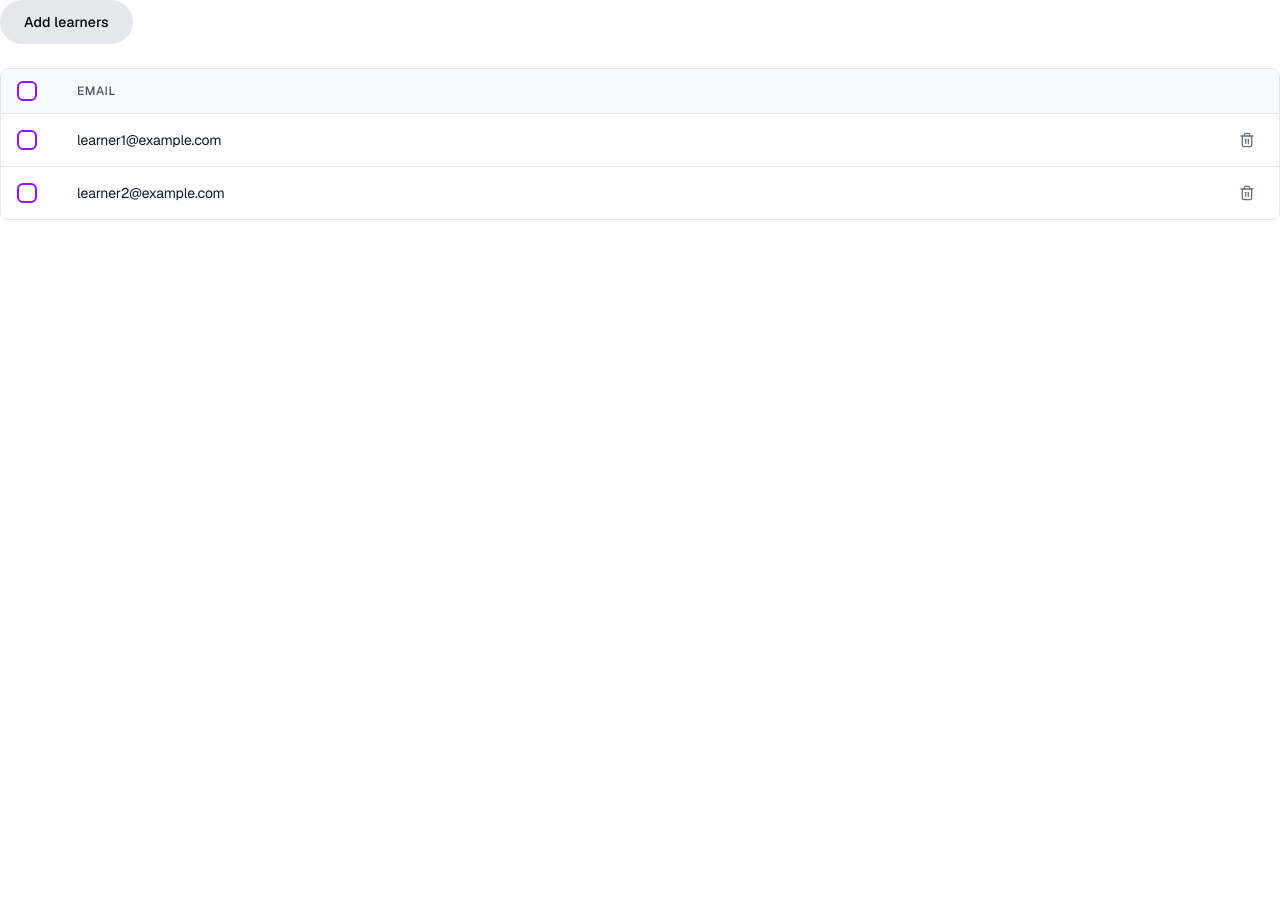
Scenario: CohortMemberManagement Component › Email Input Management › removes email input when trash button is clicked
This screenshot has width=1280, height=900.
What coordinates should you click on to do the following:
click the button "Add learners"
I would click on:
 (66, 22)
Its box is [0,0,133,44].
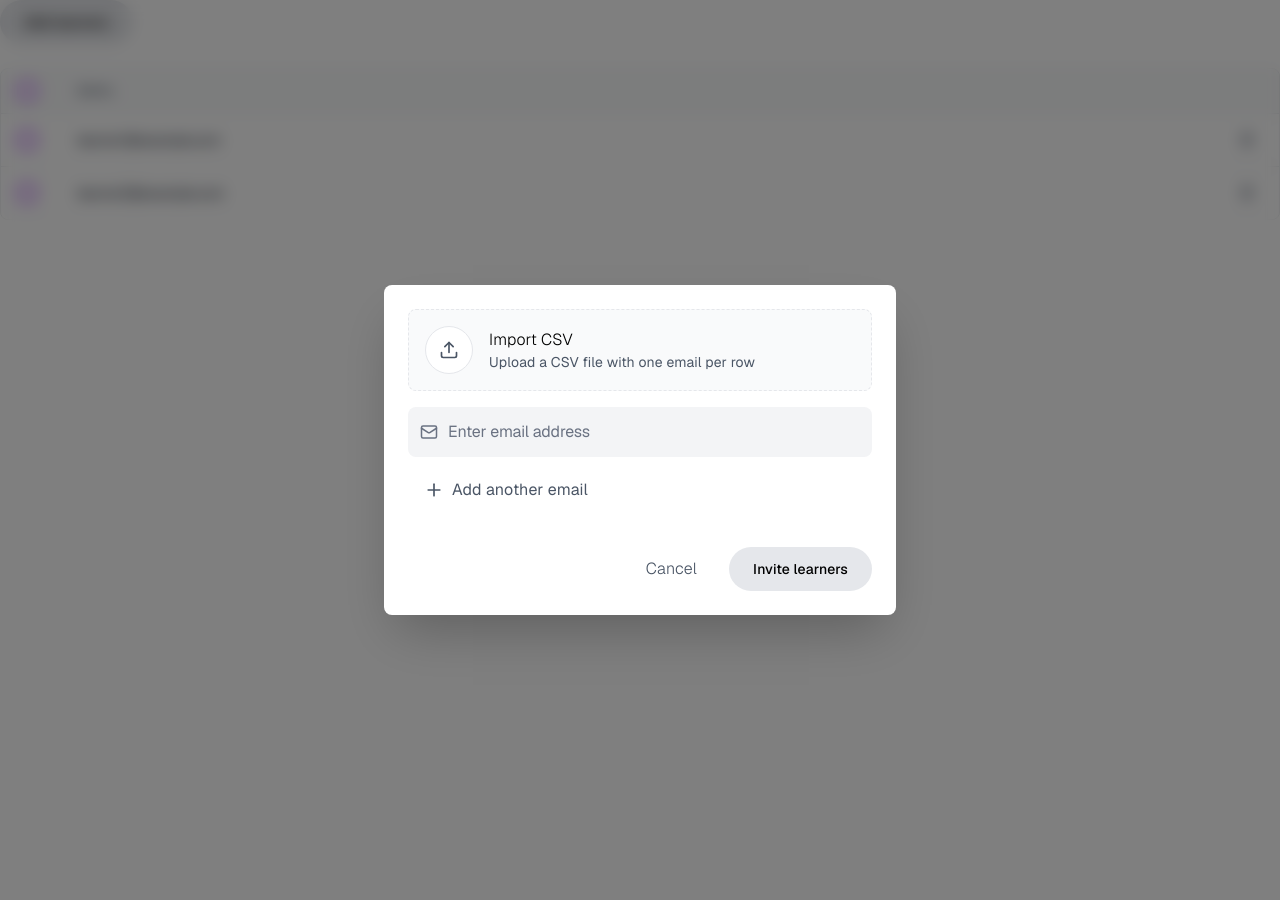
What coordinates should you click on to do the following:
click the button "Add another email"
I would click on:
 (520, 490)
Its box is [408,465,872,515].
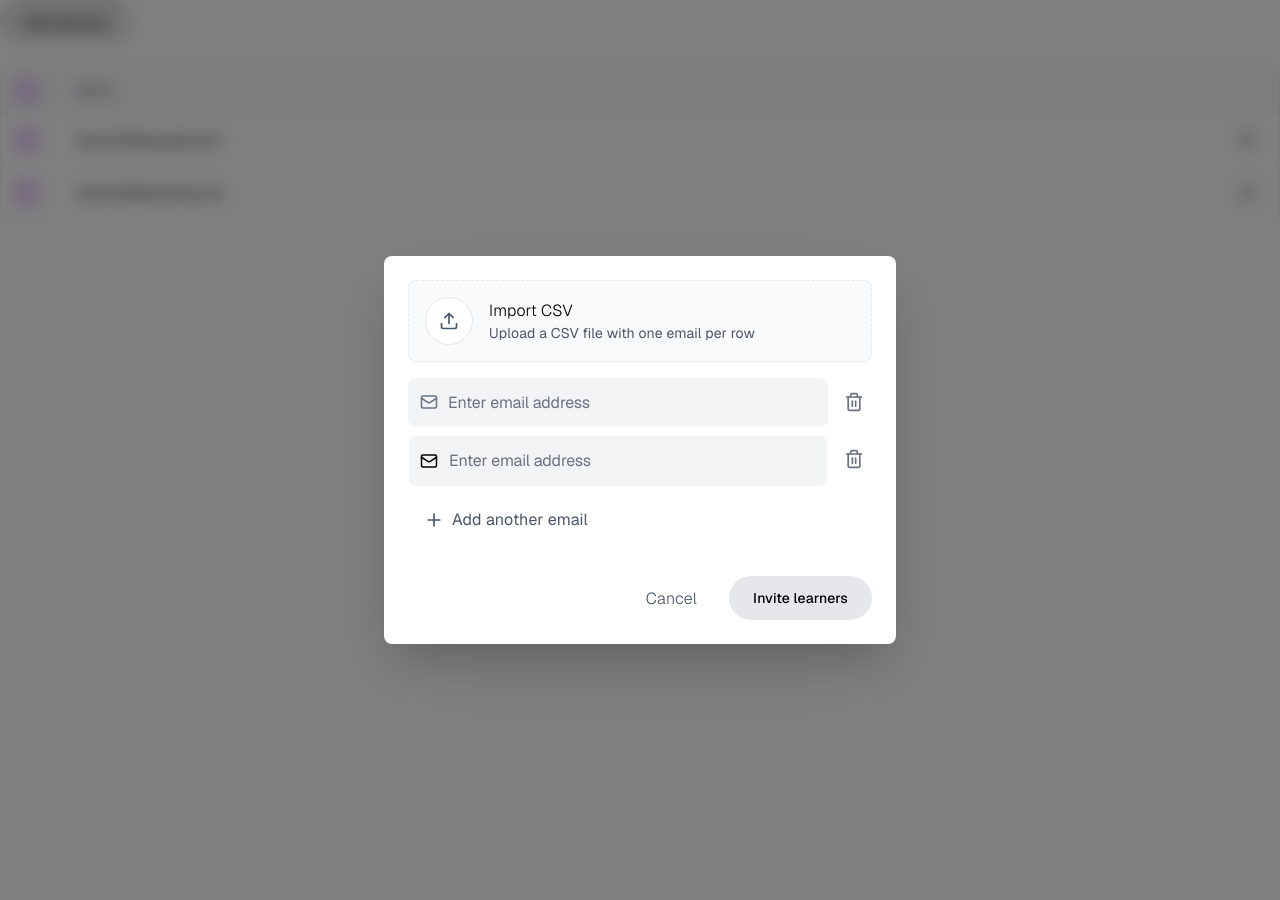
Expected: the number of fields with placeholder "Enter email address" is 2, [408,378,828,427]; [408,435,828,487]
# Click the parent button of the first trash icon
What coordinates should you click on to do the following:
click the 2nd button
I would click on:
 (854, 402)
Its box is [836,384,872,420].
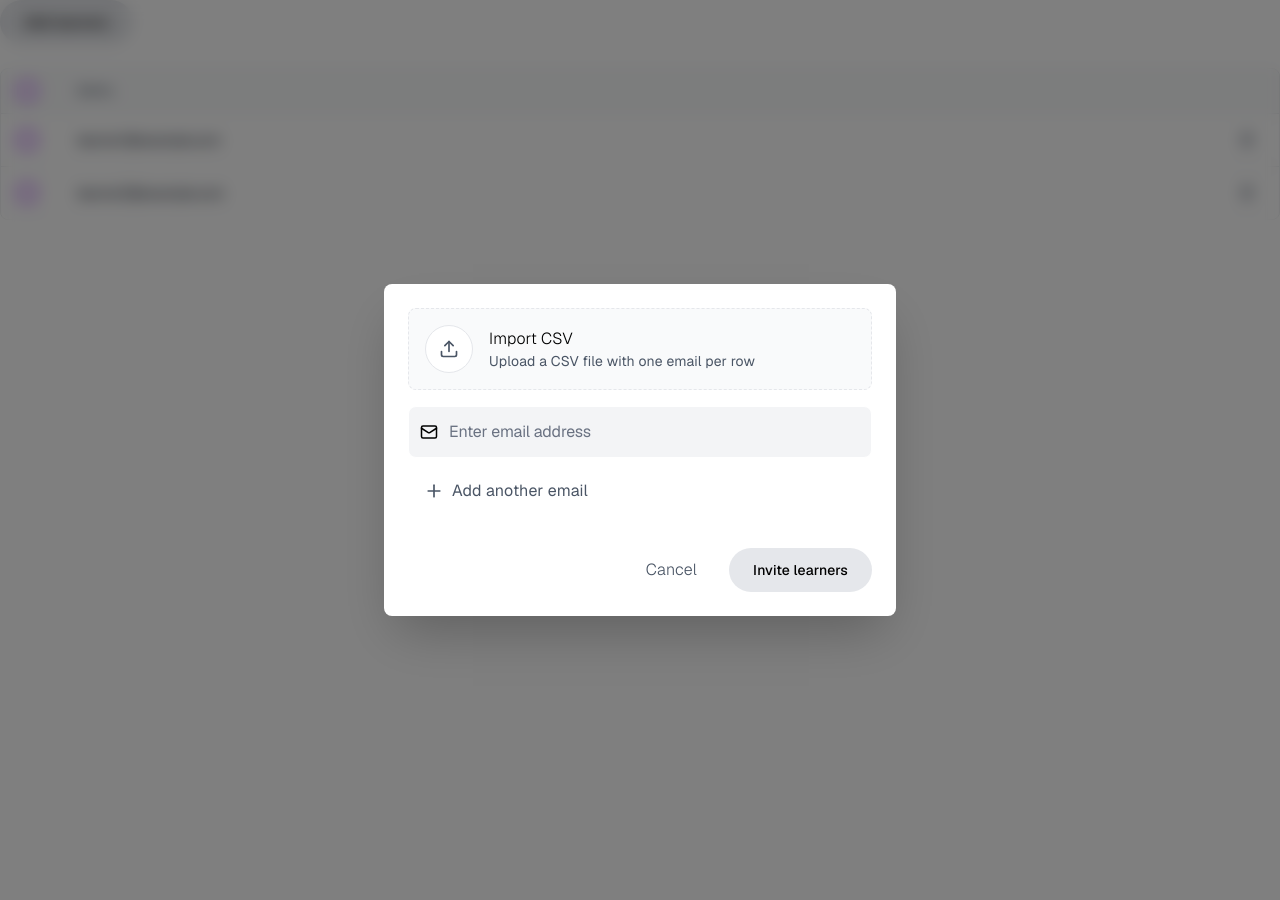
Expected: the number of fields with placeholder "Enter email address" is 1, [408,406,872,458]
